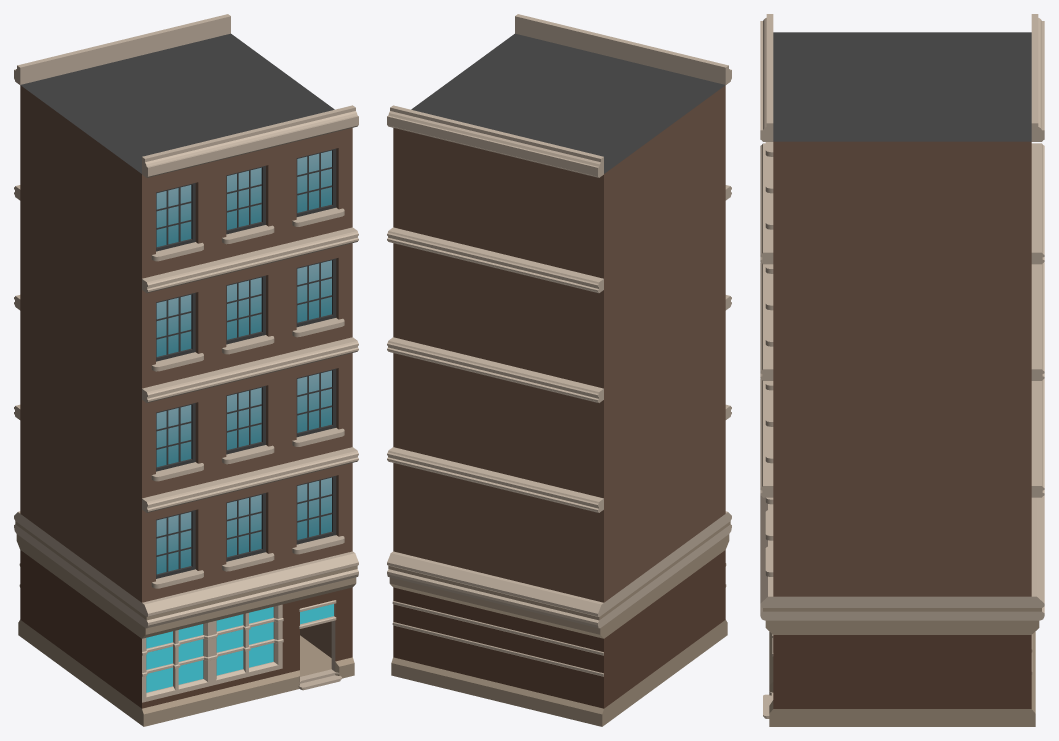
The model's file is SM_Buildings_House_06_V2.fbx.
The picture shows the model from 3 angles, left to right: view 1: azimuth 30°, elevation 25°; view 2: azimuth 150°, elevation 25°; view 3: azimuth 270°, elevation 25°; orthographic projection. The views are drawn at different scales.
Visible parts, largest first — view 1: SM_Buildings_House_06_V2; view 2: SM_Buildings_House_06_V2; view 3: SM_Buildings_House_06_V2.
Part boxes in pixels (x1,y1,x2,y2): SM_Buildings_House_06_V2: (14, 14, 358, 726); SM_Buildings_House_06_V2: (387, 14, 731, 726); SM_Buildings_House_06_V2: (760, 14, 1044, 726).
Size of the model in its own units: 10 by 25.78 by 11.
